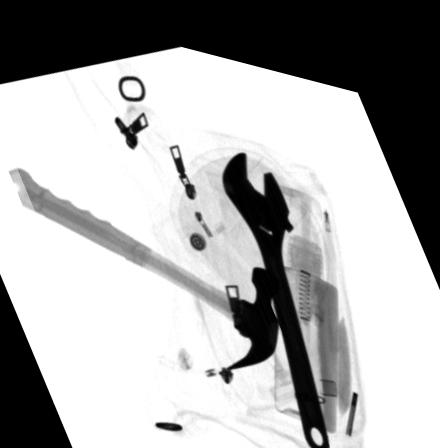Hammer: (7, 164, 279, 358)
Wrench: (221, 138, 329, 436)
